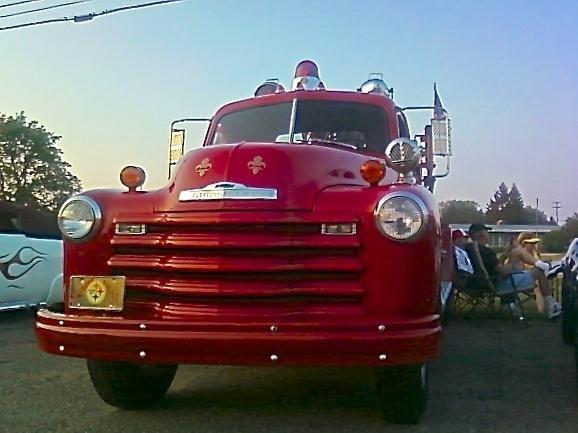car: (1, 198, 66, 310)
truck: (35, 63, 456, 424), (0, 200, 64, 314)
